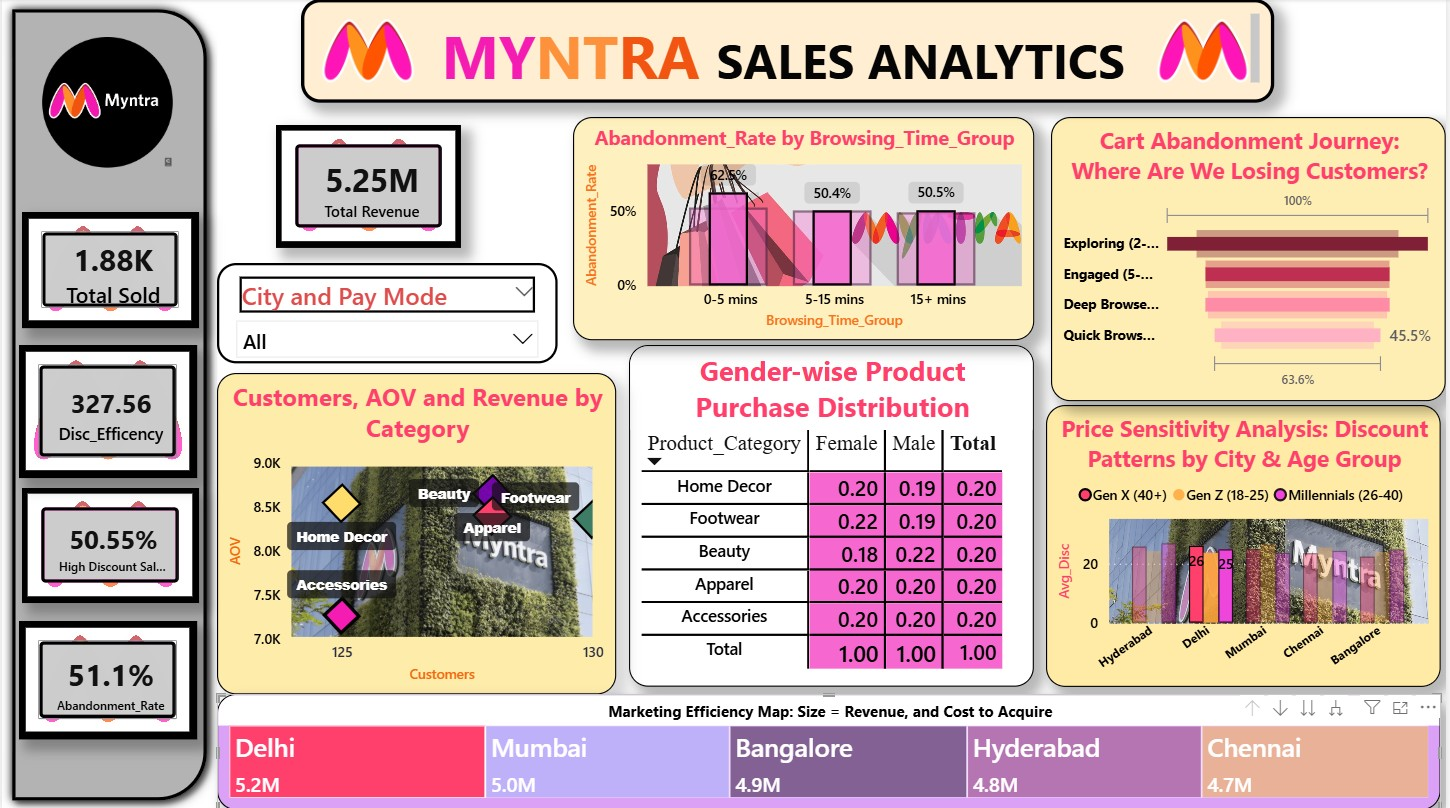

What the dashboard file says about the page in this screenshot:
{"tool":"powerbi","page":{"name":"Page 1","canvas":[1280,720],"ordinal":0},"visuals":[{"type":"textbox","box":[265.5,0,862.7,92.4],"z":0},{"type":"textbox","box":[150,240,300,300],"z":1000},{"type":"image","box":[273.3,16.5,103.1,58.4],"z":2000},{"type":"image","box":[1013.5,16.5,103.1,58.4],"z":3000},{"type":"shape","box":[0,0,190.6,719.8],"z":4000},{"type":"image","box":[26.6,33.7,133.9,116.2],"z":5000},{"type":"cardVisual","fields":{"Data":["Sheet1.Total_Quantity"]},"box":[17.7,188.9,156.9,102.9],"z":6000},{"type":"cardVisual","fields":{"Data":["Sheet1.Total Revenue"]},"box":[243.2,111.9,164.4,108.9],"z":7000},{"type":"cardVisual","fields":{"Data":["Sheet1.High Discount Sales %"]},"box":[17.7,433.6,156.9,102],"z":8000},{"type":"cardVisual","fields":{"Data":["Sheet1.Abandonment_Rate"]},"box":[15.1,551.5,157.8,104.6],"z":9000},{"type":"pivotTable","title":"Gender-wise Product Purchase Distribution","fields":{"Rows":["Sheet1.Product_Category"],"Columns":["Sheet1.Gender"],"Values":["Sheet1.Gender %"]},"box":[556,306.8,359.1,303.3],"z":10000},{"type":"clusteredColumnChart","fields":{"Category":["Sheet1.Browsing_Time_Group"],"Y":["Sheet1.Abandonment_Rate"]},"box":[506.7,105,408.5,198.4],"z":11000},{"type":"scatterChart","fields":{"X":["Sheet1.Total_Customers"],"Y":["Sheet1.AOV"],"Size":["Sheet1.Total Revenue"],"Series":["Sheet1.Product_Category"]},"box":[190.6,331.7,354,285],"z":12000},{"type":"lineClusteredColumnComboChart","title":"Price Sensitivity Analysis: Discount Patterns by City & Age Group","fields":{"Category":["Sheet1.City"],"Series":["Sheet1.Age_Group"],"Y":["Avg(Sheet1.Discount_Applied)"]},"box":[926,359.9,350.2,250],"z":13000},{"type":"treemap","title":"Marketing Efficiency Map: Size = Revenue, and Cost to Acquire","fields":{"Group":["Sheet1.City","Sheet1.Product_Category","Sheet1.Gender"],"Values":["Sheet1.Total Revenue"]},"box":[190.6,616.7,1085.5,103.1],"z":14000},{"type":"funnel","title":"Cart Abandonment Journey: Where Are We Losing Customers?","fields":{"Category":["Sheet1.Browsing_Stage1"],"Y":["Sheet1.Abandonment_Rate"]},"box":[929.8,105,350.2,251.9],"z":15000},{"type":"cardVisual","fields":{"Data":["Sheet1.Discount_Efficiency"]},"box":[15.1,306.8,157.8,117.9],"z":16000},{"type":"slicer","fields":{"Values":["Sheet1.City","Sheet1.Payment_Method"]},"box":[190.6,234.4,302.5,89.5],"z":17000}]}

Visuals, with their boxes in screenshot pixels (x1, y1, x2, y2), scaled from the page's 1280x720 canvas onto the 1450x808 screenshot:
textbox: 301,0,1278,104
textbox: 170,269,510,606
image: 310,19,426,84
image: 1148,19,1265,84
shape: 0,0,216,807
image: 30,38,182,168
cardVisual - Sheet1.Total_Quantity: 20,212,198,327
cardVisual - Sheet1.Total Revenue: 276,126,462,248
cardVisual - Sheet1.High Discount Sales %: 20,487,198,601
cardVisual - Sheet1.Abandonment_Rate: 17,619,196,736
"Gender-wise Product Purchase Distribution" pivotTable: 630,344,1037,685
clusteredColumnChart - Sheet1.Browsing_Time_Group x Sheet1.Abandonment_Rate: 574,118,1037,340
scatterChart - Sheet1.Total_Customers x Sheet1.AOV: 216,372,617,692
"Price Sensitivity Analysis: Discount Patterns by City & Age Group" lineClusteredColumnComboChart: 1049,404,1446,684
"Marketing Efficiency Map: Size = Revenue, and Cost to Acquire" treemap: 216,692,1446,807
"Cart Abandonment Journey: Where Are We Losing Customers?" funnel: 1053,118,1449,401
cardVisual - Sheet1.Discount_Efficiency: 17,344,196,477
slicer - Sheet1.City x Sheet1.Payment_Method: 216,263,559,363
